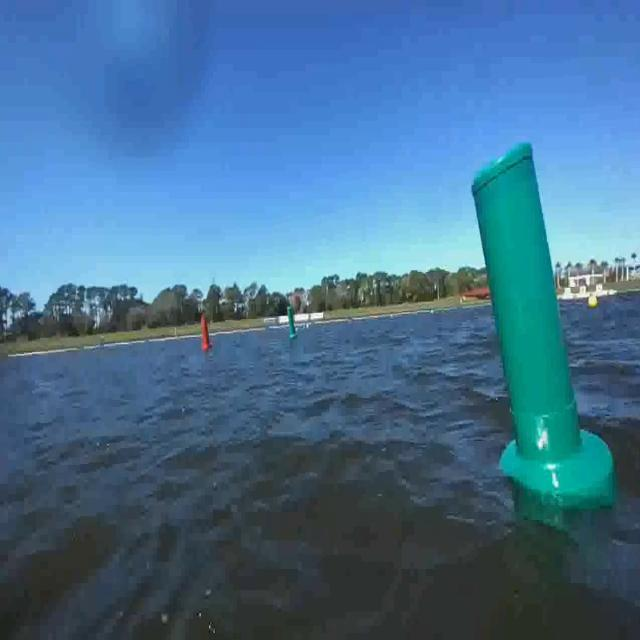green-column-buoy: (454, 154, 613, 509), (287, 310, 302, 350)
red-column-buoy: (200, 309, 215, 360)
